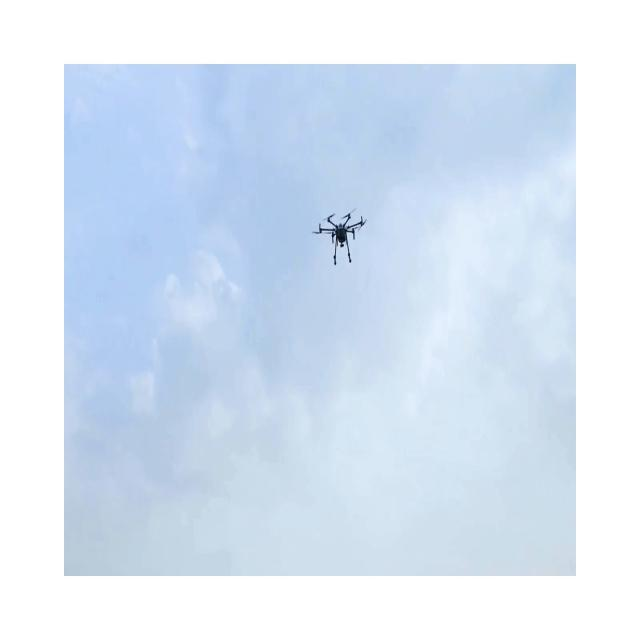drone: (311, 207, 367, 265)
